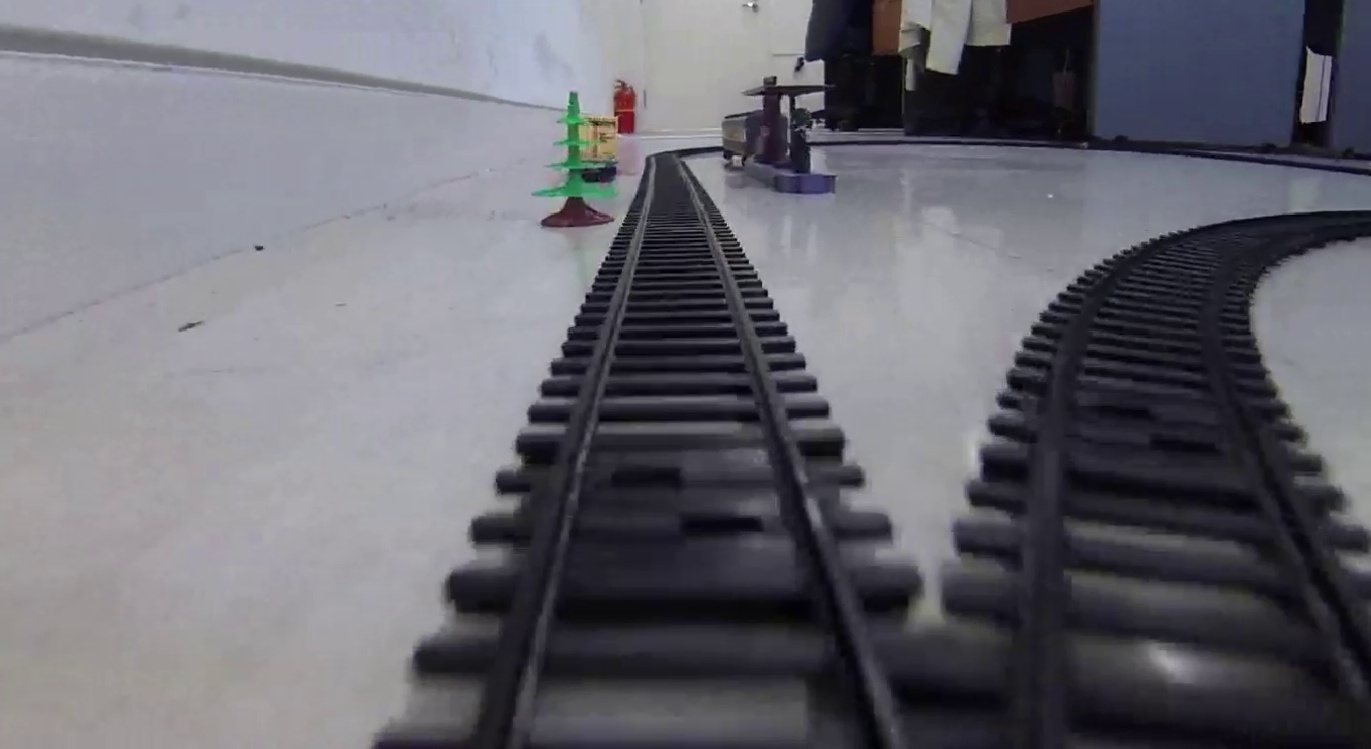tree: (533, 90, 615, 225)
